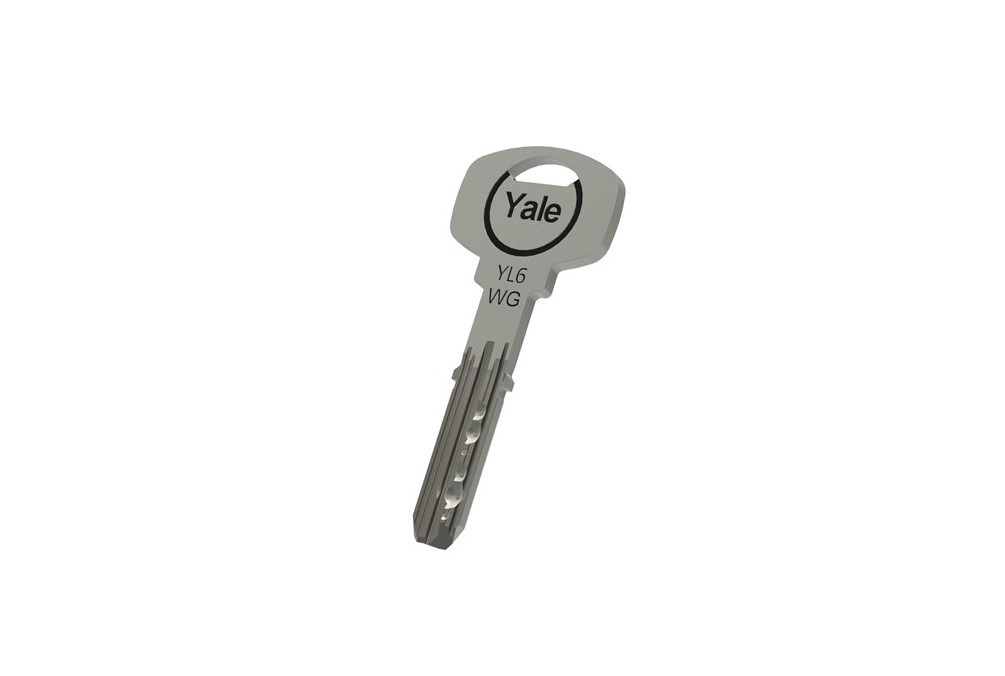key: (415, 145, 627, 546)
